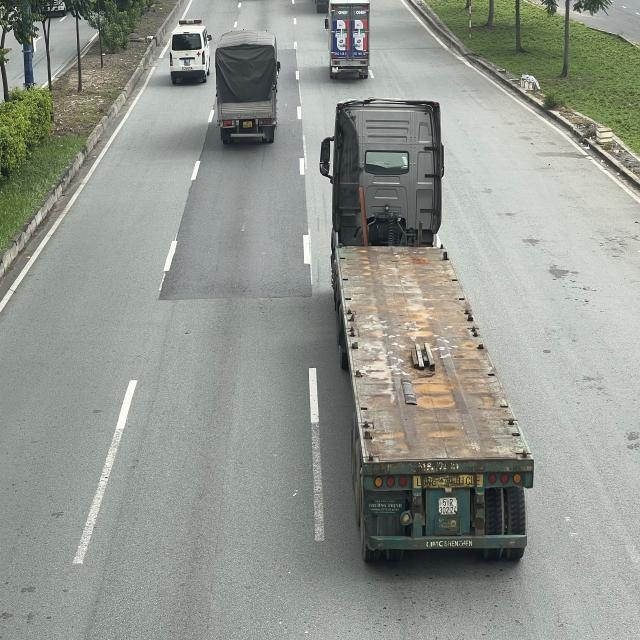container: (321, 96, 535, 565)
truck: (215, 29, 280, 144), (324, 0, 370, 81)
van: (168, 16, 210, 81)
